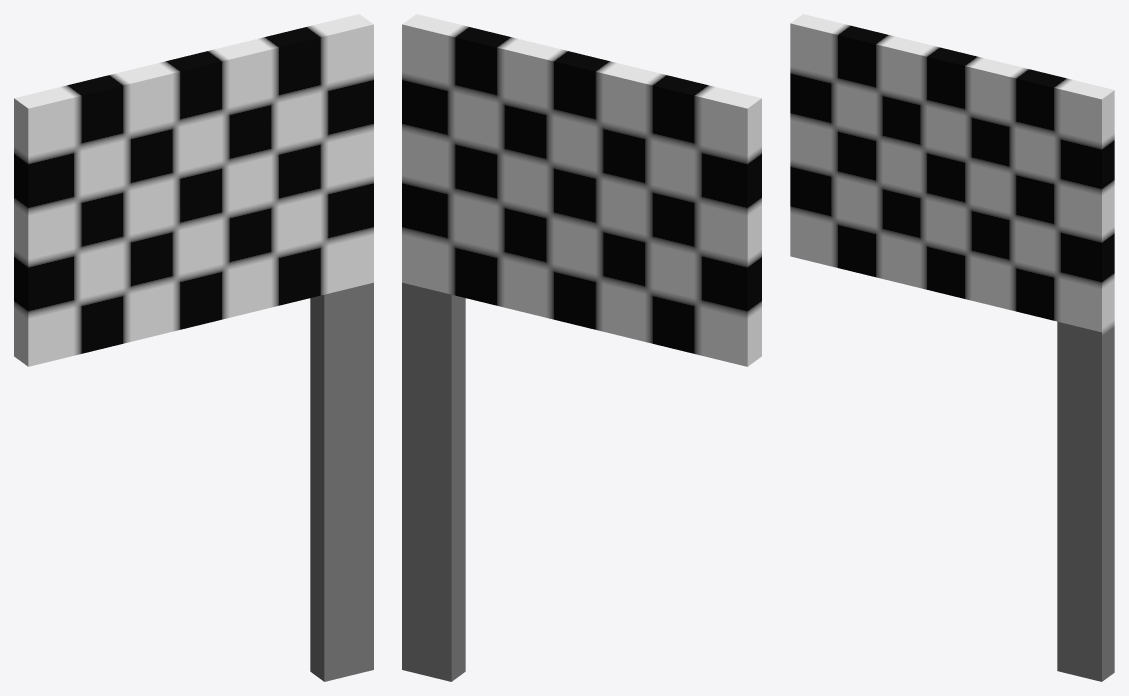
The model's file is Flag.fbx.
3 renders of one model, left to right at view 1: azimuth 30°, elevation 25°; view 2: azimuth 150°, elevation 25°; view 3: azimuth 330°, elevation 25°, orthographic. The views are drawn at different scales.
Parts seen in each view (by area): view 1: Flag; view 2: Flag; view 3: Flag.
Boxes of the visible parts, box(x1,y1,x2,y2) form: Flag: box(14, 14, 373, 681); Flag: box(402, 14, 761, 681); Flag: box(790, 14, 1114, 681).
Bounding box in the file's own units: 14 × 25 × 1.
1 material, 1 textured.
